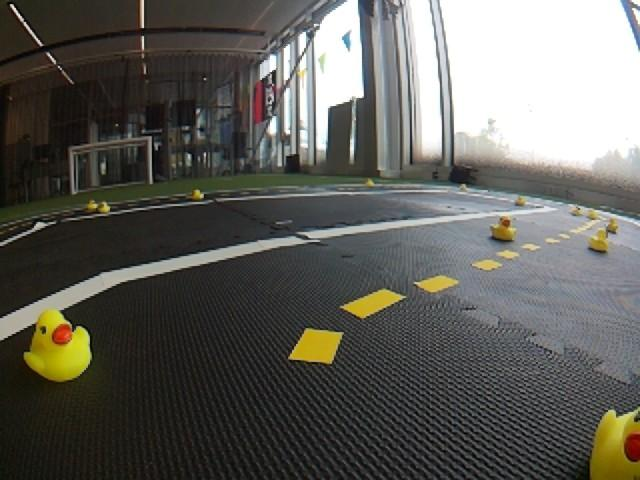Duckies: (24, 312, 90, 382), (593, 407, 640, 480), (490, 215, 517, 240), (588, 227, 609, 251), (606, 218, 620, 231), (99, 200, 110, 213), (586, 207, 598, 218), (190, 189, 203, 199), (572, 207, 585, 216), (86, 200, 96, 209), (516, 196, 525, 205), (365, 180, 374, 186), (460, 184, 467, 189)
